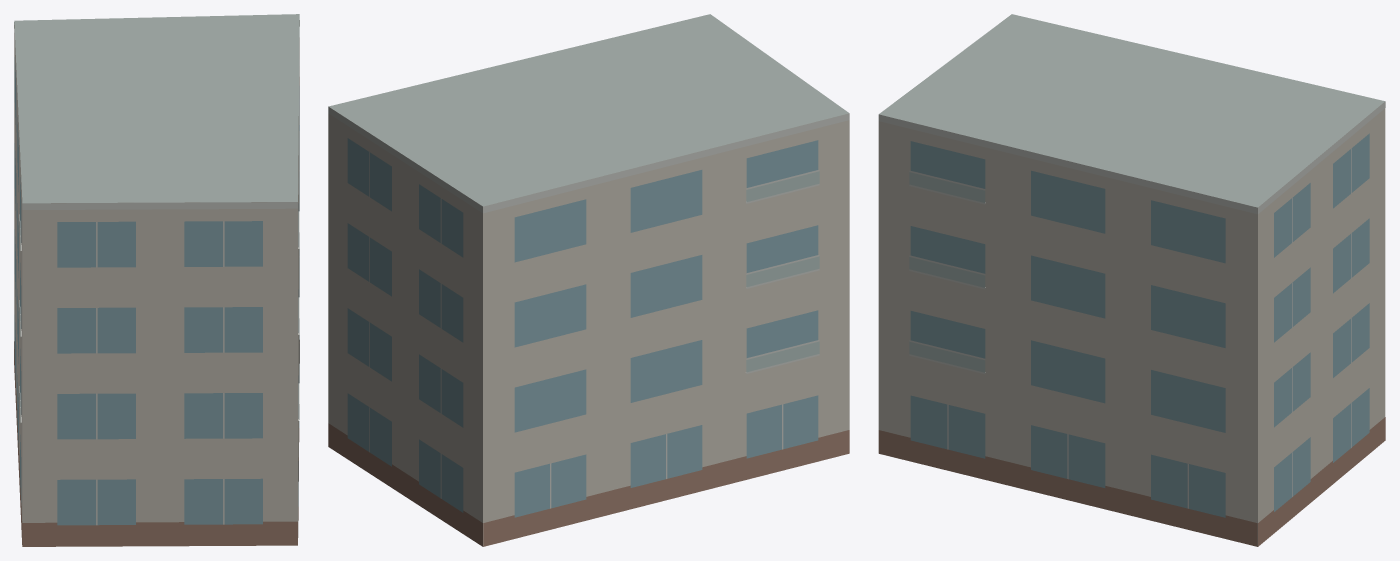
The model's file is survey-upis-32730385.glb.
The picture shows the model from 3 angles, left to right: view 1: azimuth 30°, elevation 25°; view 2: azimuth 150°, elevation 25°; view 3: azimuth 270°, elevation 25°; orthographic projection.
Visible parts, largest first — view 1: survey-upis-32730385.tmp; view 2: survey-upis-32730385.tmp; view 3: survey-upis-32730385.tmp.
Boxes of the visible parts, left/top/right/bottom form: survey-upis-32730385.tmp: left=14, top=14, right=299, bottom=546; survey-upis-32730385.tmp: left=328, top=14, right=849, bottom=546; survey-upis-32730385.tmp: left=878, top=14, right=1385, bottom=546.
Bounding box in the file's own units: 14.94 × 12.2 × 16.53.
